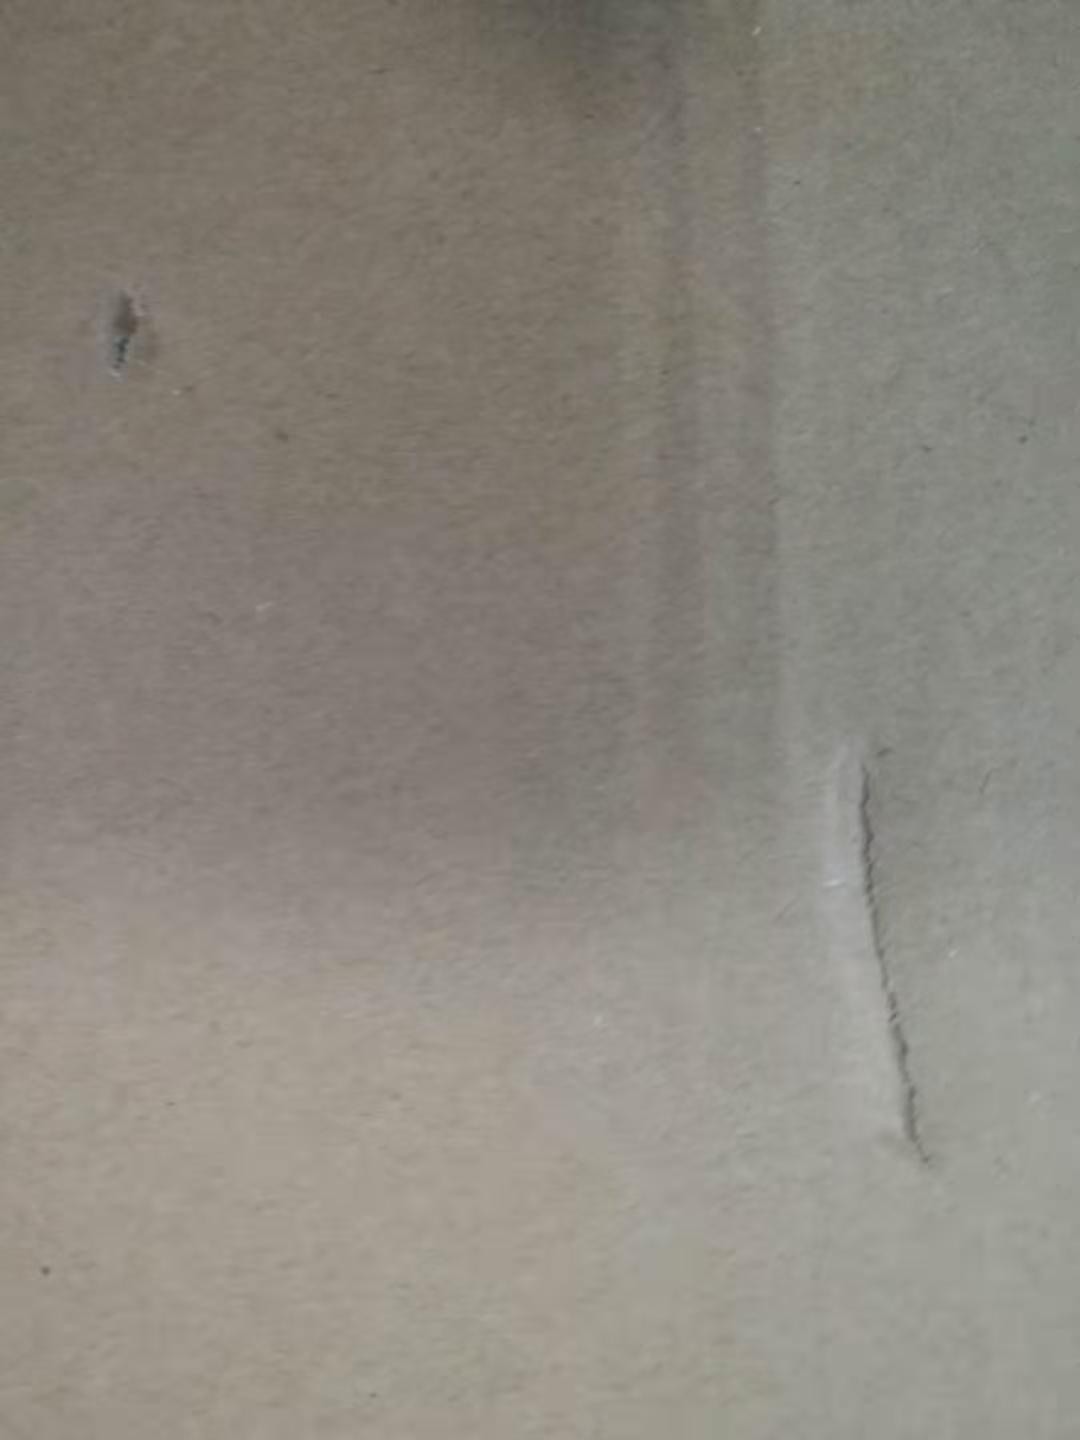defect: (786, 708, 1003, 1195), (66, 253, 188, 418)
